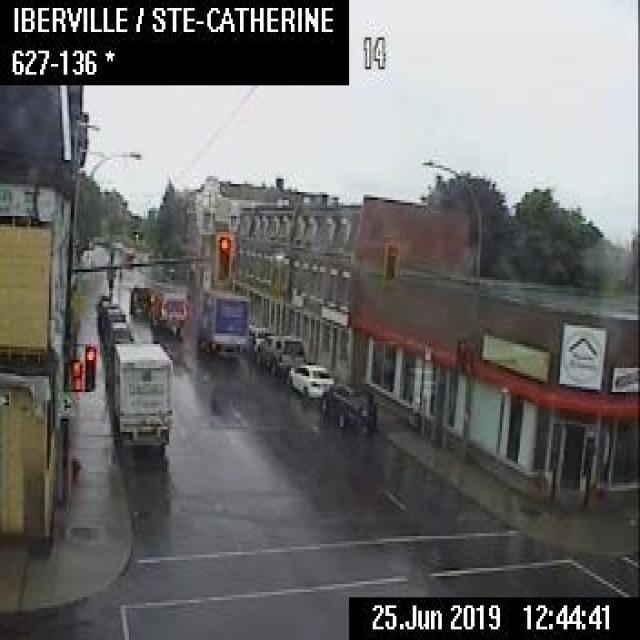vehicle: (111, 341, 172, 450), (196, 288, 246, 352), (319, 380, 376, 426), (255, 332, 305, 377), (149, 288, 187, 336), (285, 361, 334, 396), (101, 318, 132, 348), (245, 322, 269, 360), (128, 282, 152, 316), (98, 307, 124, 334)
